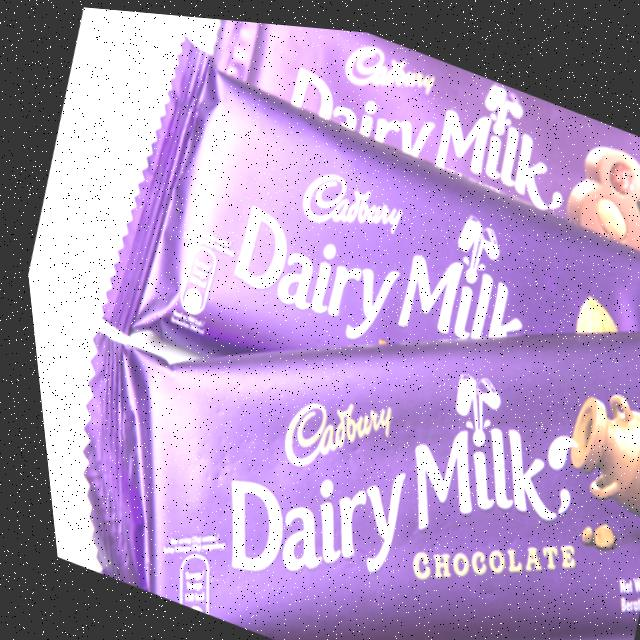cadbury: (7, 91, 640, 640), (67, 17, 640, 526), (165, 12, 640, 341)
